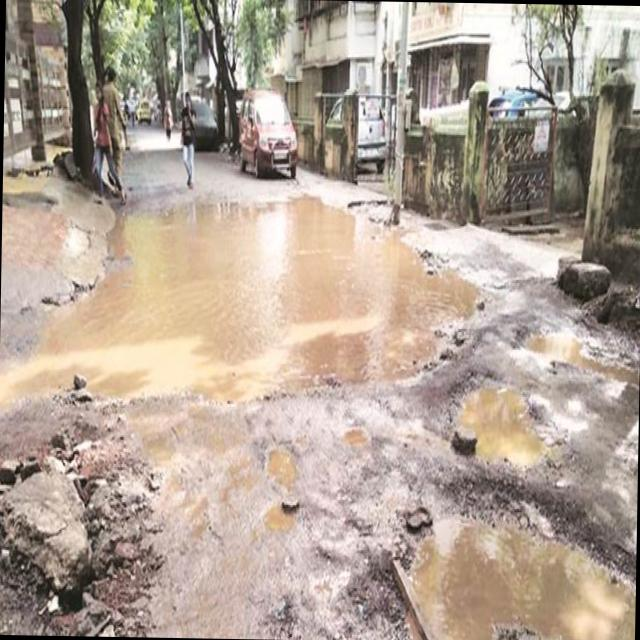Potholes: (17, 158, 468, 457), (369, 457, 635, 640), (498, 287, 640, 415), (433, 364, 550, 484), (242, 436, 328, 542)
